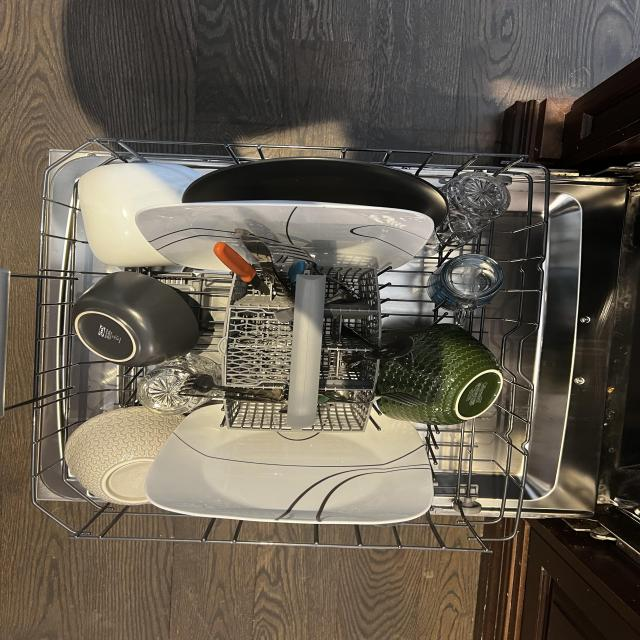Bowl: (379, 323, 507, 424), (69, 272, 202, 365)
Fork: (268, 237, 363, 299), (179, 372, 284, 402), (320, 391, 429, 408), (325, 285, 359, 306)
Glass: (440, 169, 512, 246), (135, 352, 220, 416), (430, 251, 503, 315)
Knife: (233, 225, 290, 299), (215, 240, 270, 296), (343, 334, 417, 370), (170, 392, 287, 408)
Plate: (140, 403, 436, 525), (131, 200, 435, 277)
